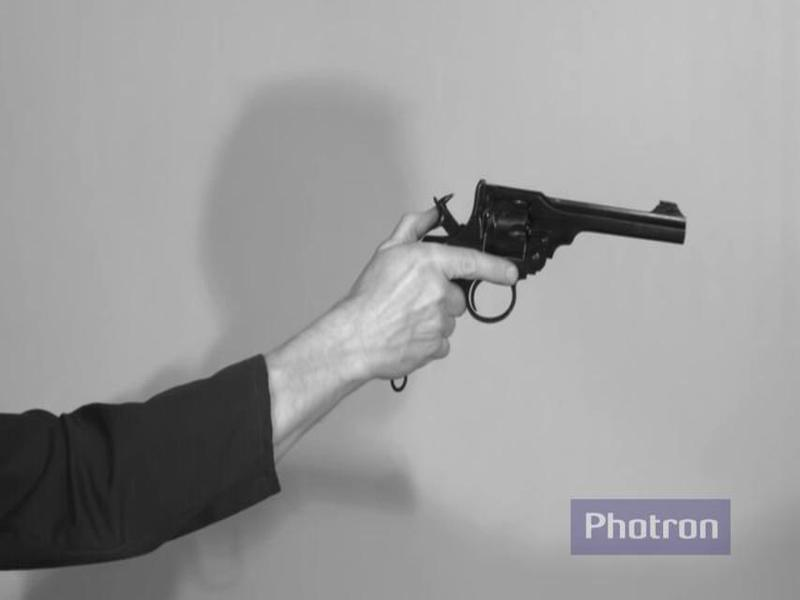Revolver: (363, 157, 708, 413)
